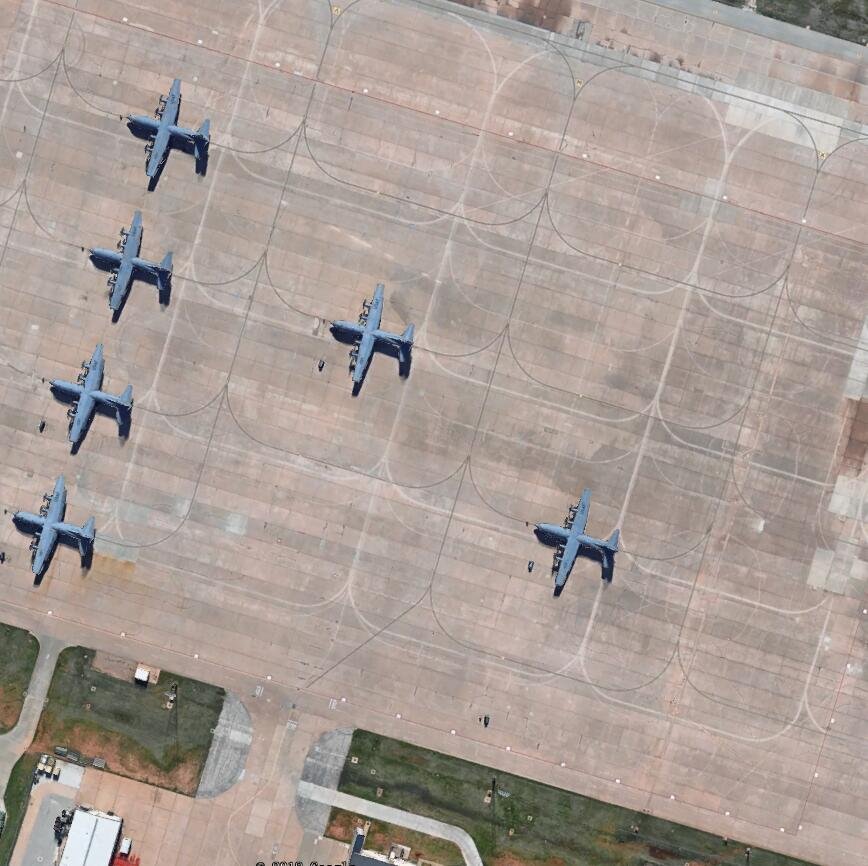A2: (77, 211, 183, 320), (324, 281, 419, 397), (531, 484, 629, 596), (119, 77, 218, 186), (46, 341, 144, 451), (8, 476, 103, 585)
